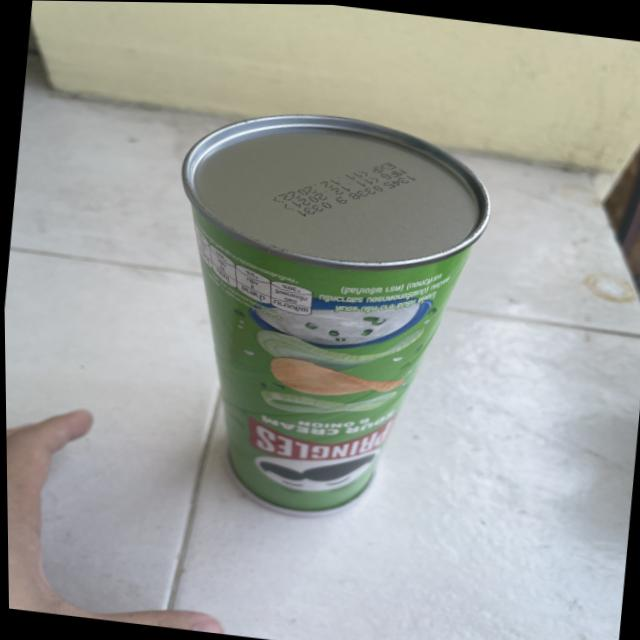a pringles: (143, 90, 507, 535)
